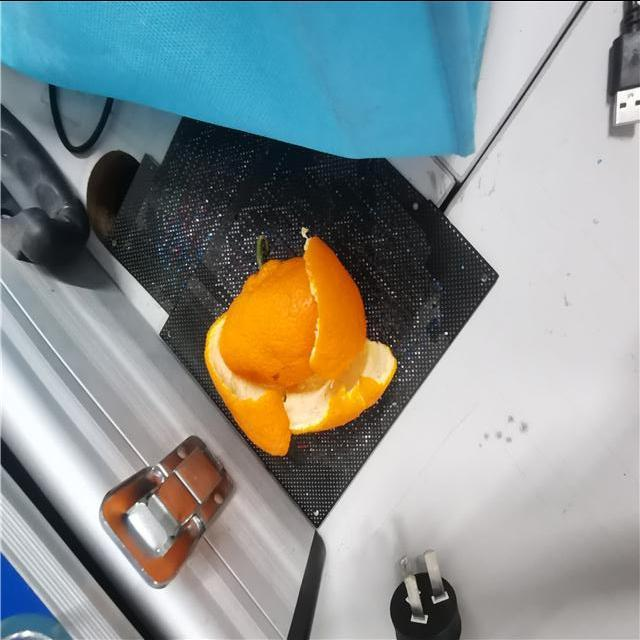orange peel: (203, 211, 405, 460)
